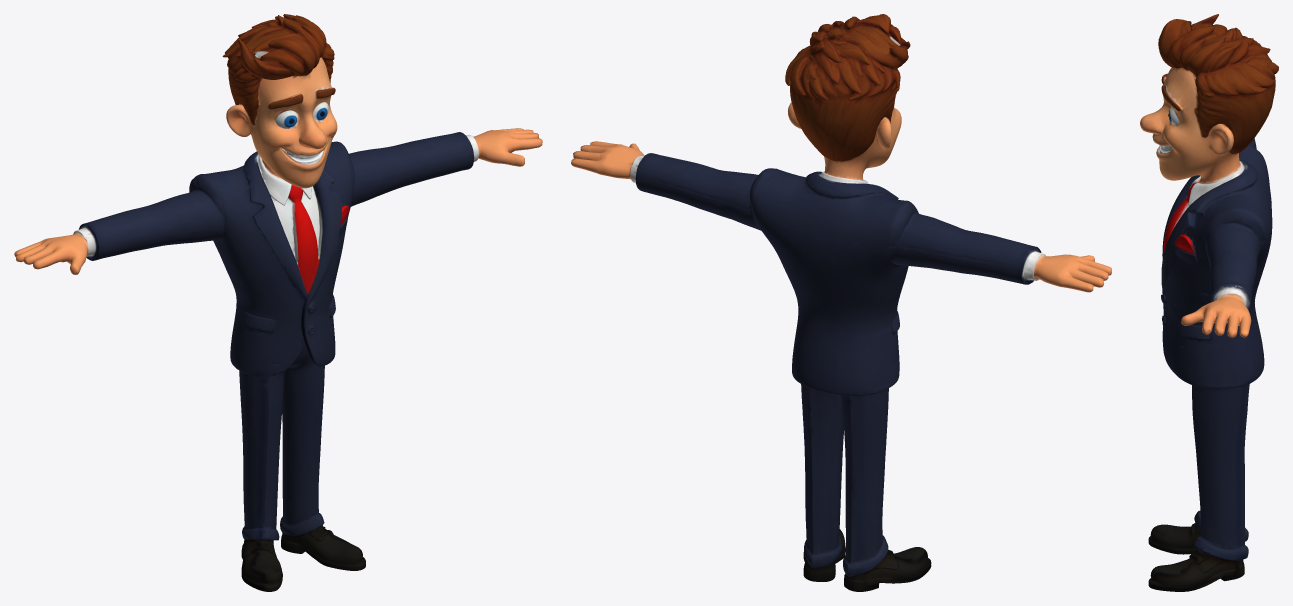
The model's file is the_host.glb.
3 renders of one model, left to right at view 1: azimuth 30°, elevation 25°; view 2: azimuth 150°, elevation 25°; view 3: azimuth 270°, elevation 25°, orthographic. The views are drawn at different scales.
Parts seen in each view (by area): view 1: tripo_node_6c1e403e-9ffa-4be8-bab1-6ac349551e53; view 2: tripo_node_6c1e403e-9ffa-4be8-bab1-6ac349551e53; view 3: tripo_node_6c1e403e-9ffa-4be8-bab1-6ac349551e53.
Boxes of the visible parts, x1,y1,x2,y2 form: tripo_node_6c1e403e-9ffa-4be8-bab1-6ac349551e53: (14,14,542,591); tripo_node_6c1e403e-9ffa-4be8-bab1-6ac349551e53: (571,14,1111,591); tripo_node_6c1e403e-9ffa-4be8-bab1-6ac349551e53: (1140,14,1278,591).
Size of the model in its own units: 0.9798 by 0.9769 by 0.2278.
1 material, 1 textured.
